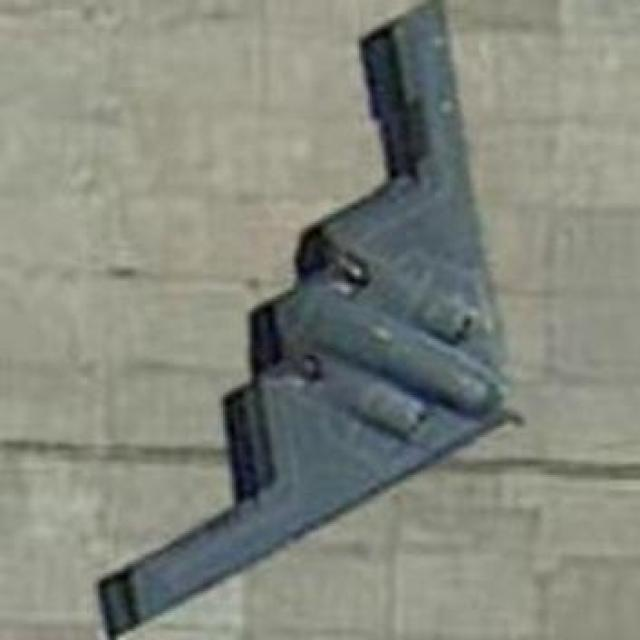B-2_TopDown: (89, 0, 528, 638)
